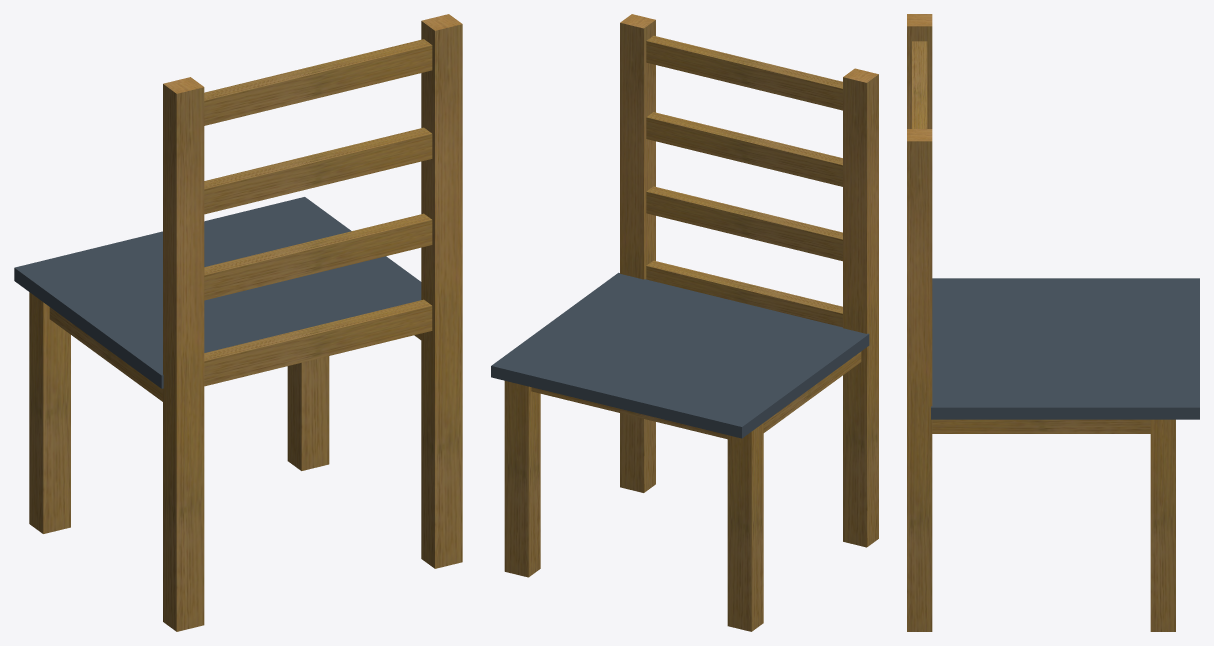
File: chair5.FBX
3 views of the same model, side by side, from view 1: azimuth 30°, elevation 25°; view 2: azimuth 150°, elevation 25°; view 3: azimuth 270°, elevation 25° (orthographic). The views are drawn at different scales.
Parts seen in each view (by area): view 1: chair5; view 2: chair5; view 3: chair5.
Boxes of the visible parts, x1,y1,x2,y2 form: chair5: (14, 14, 462, 631); chair5: (491, 14, 878, 631); chair5: (907, 14, 1199, 631).
Bounding box in the file's own units: 4.69 × 8.3 × 4.49.
